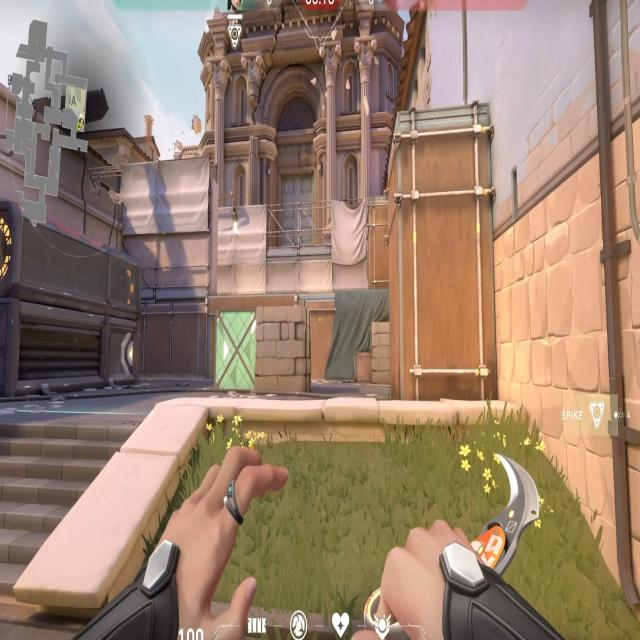A_Heaven_Box: (366, 197, 390, 289)
A_Heaven_Wall: (121, 166, 222, 297)
A_Site_Box: (213, 304, 316, 396)
